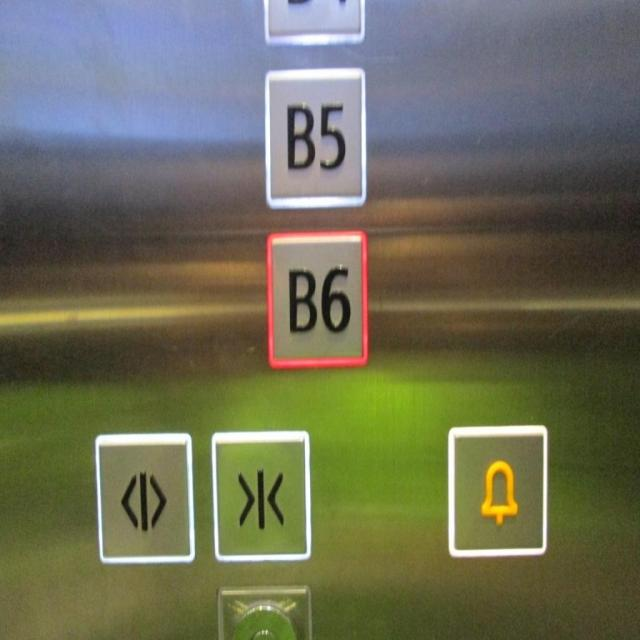B5: (260, 60, 371, 212)
B6: (258, 224, 371, 374)
alarm: (444, 421, 550, 562)
close: (208, 425, 313, 565)
open: (93, 428, 196, 568)
